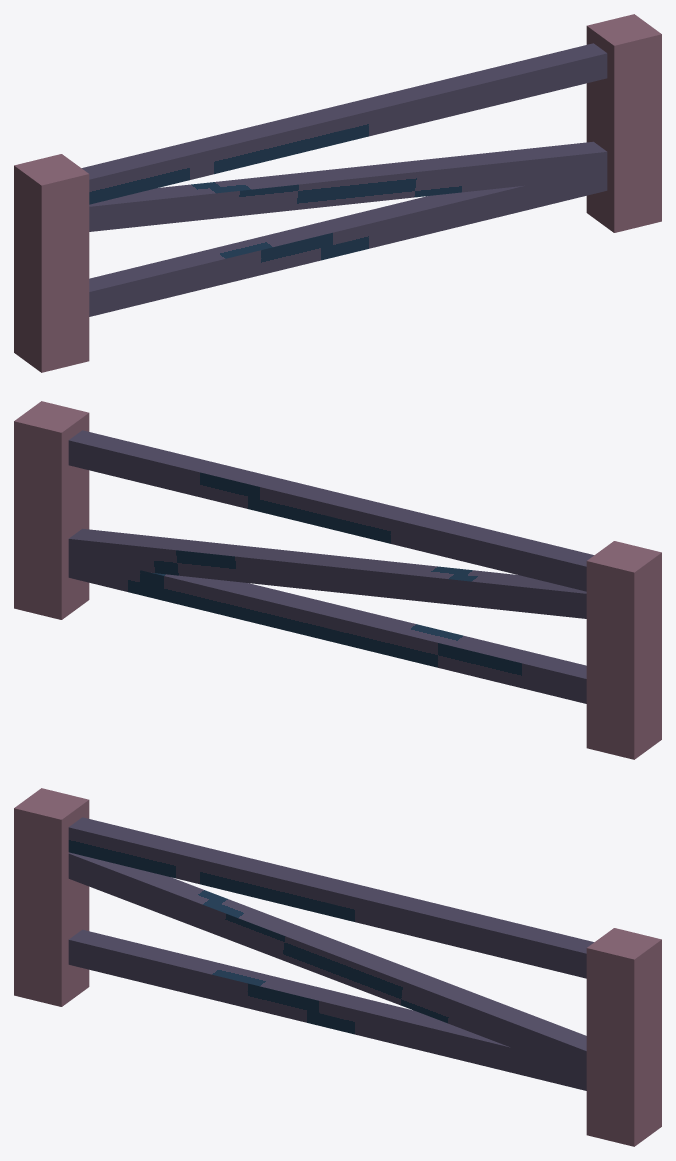
Rendered from fence.obj.
3 views of the same model, one above another, from view 1: azimuth 30°, elevation 25°; view 2: azimuth 150°, elevation 25°; view 3: azimuth 330°, elevation 25° (orthographic).
Parts seen in each view (by area): view 1: cube; view 2: cube; view 3: cube.
Boxes of the visible parts, x1,y1,x2,y2 form: cube: [14, 14, 661, 372]; cube: [14, 401, 661, 759]; cube: [14, 788, 661, 1146].
Size of the model in its own units: 3.25 by 0.9375 by 0.25.
1 material, 1 textured.
